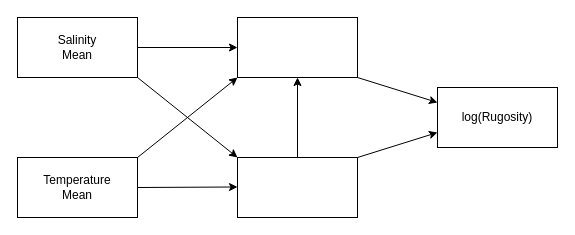
The diagram is 575 pixels wide and 235 high, and some of its shapes have lost their labels. Here are the shapes that lost their labels. From the top down, the centre of each, then its label:
At (x=297, y=47): "Species Richness".
At (x=297, y=187): "Community Growth % cover per pay".
